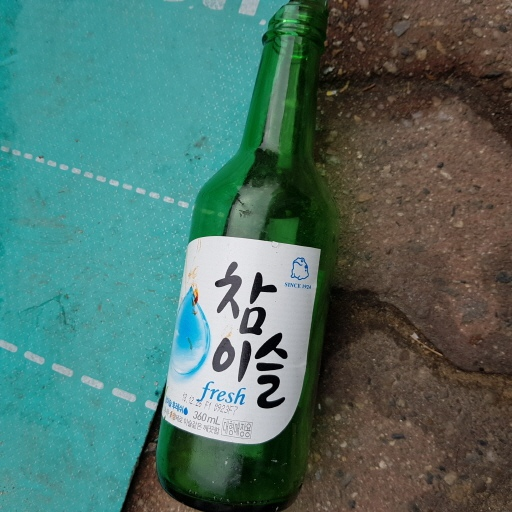Glass_0: (159, 3, 335, 512)
